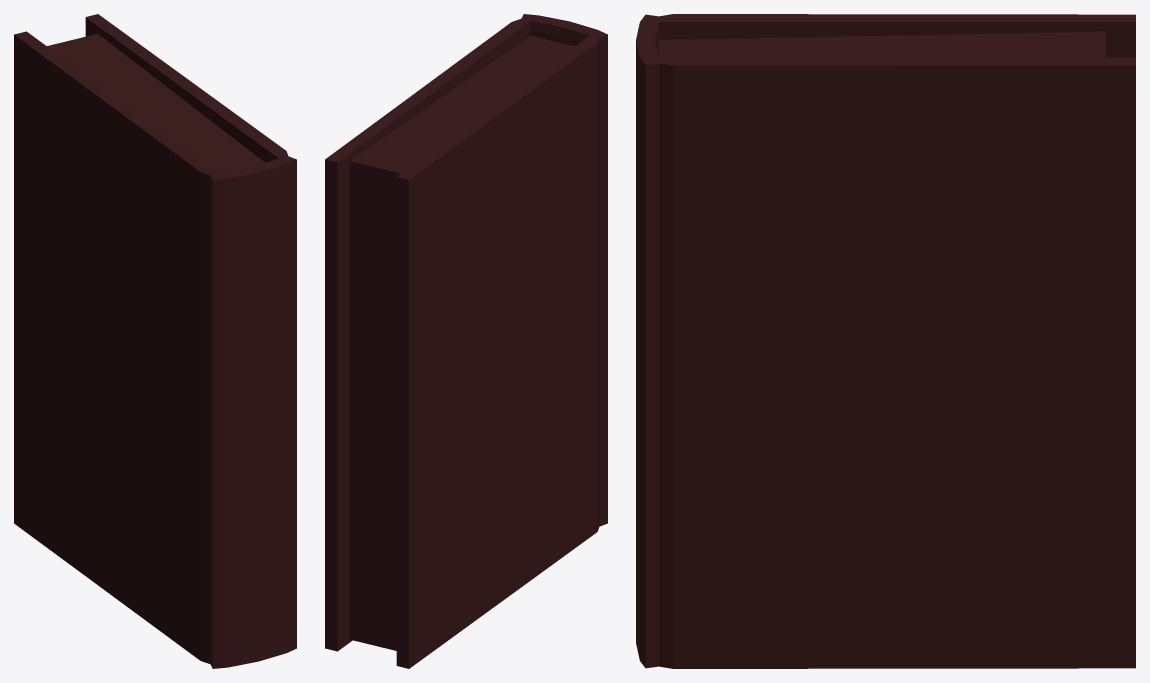
Rendered from Book_01.fbx.
The picture shows the model from 3 angles, left to right: view 1: azimuth 30°, elevation 25°; view 2: azimuth 150°, elevation 25°; view 3: azimuth 270°, elevation 25°; orthographic projection. The views are drawn at different scales.
Parts seen in each view (by area): view 1: Book; view 2: Book; view 3: Book.
Boxes of the visible parts, <box> form: Book: <box>14,14,296,668</box>; Book: <box>325,14,607,668</box>; Book: <box>636,14,1135,668</box>.
Size of the model in its own units: 0.3681 by 2 by 1.5.
